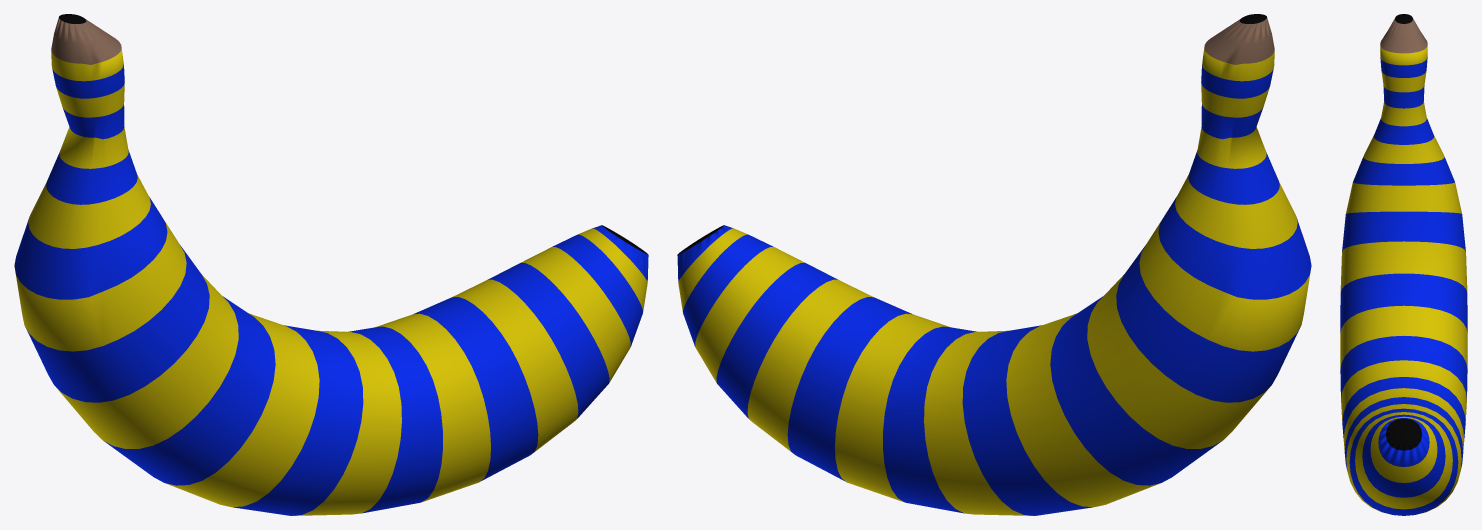
The model's file is Fruit_Double_Banana.fbx.
The picture shows the model from 3 angles, left to right: view 1: azimuth 30°, elevation 25°; view 2: azimuth 150°, elevation 25°; view 3: azimuth 270°, elevation 25°; orthographic projection. The views are drawn at different scales.
Parts seen in each view (by area): view 1: Double_Banana; view 2: Double_Banana; view 3: Double_Banana.
Part boxes in pixels (x1,y1,x2,y2): Double_Banana: (14,14,648,515); Double_Banana: (677,14,1311,515); Double_Banana: (1340,14,1467,515).
Size of the model in its own units: 263 by 227 by 70.72.
